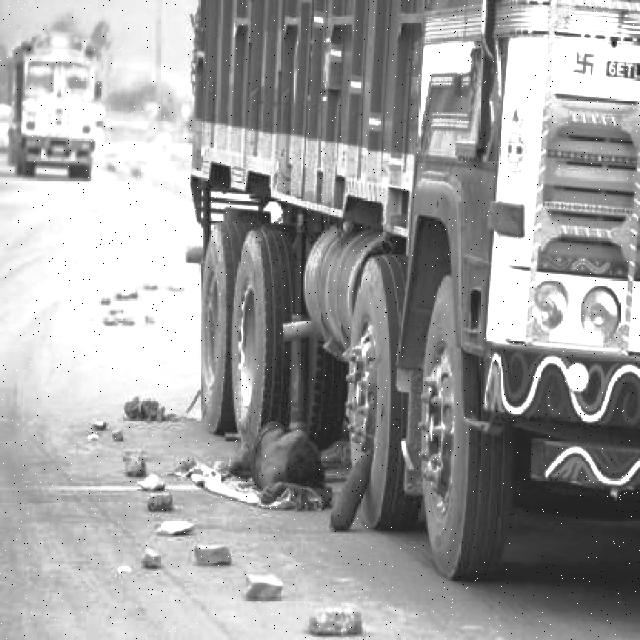HCV: (187, 0, 636, 564), (14, 24, 94, 160)
